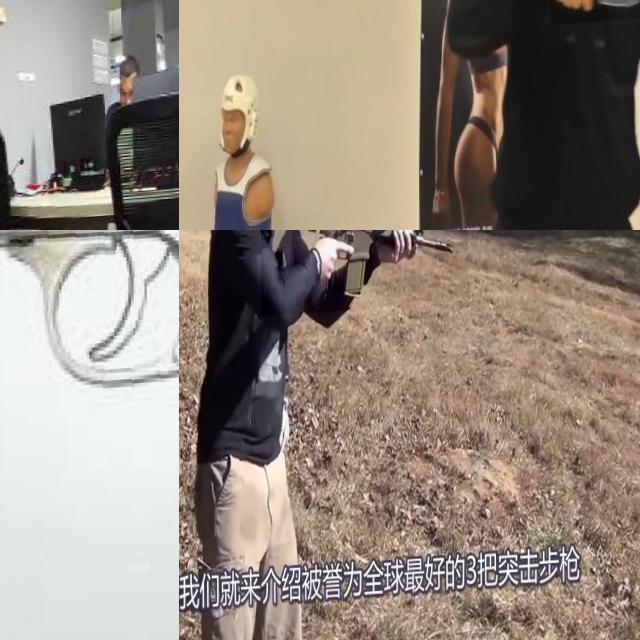-: (550, 0, 640, 43), (0, 63, 19, 187)
gun-knife-thesis - v11 Yolov5 augmented: (0, 230, 179, 640), (259, 230, 468, 319)
